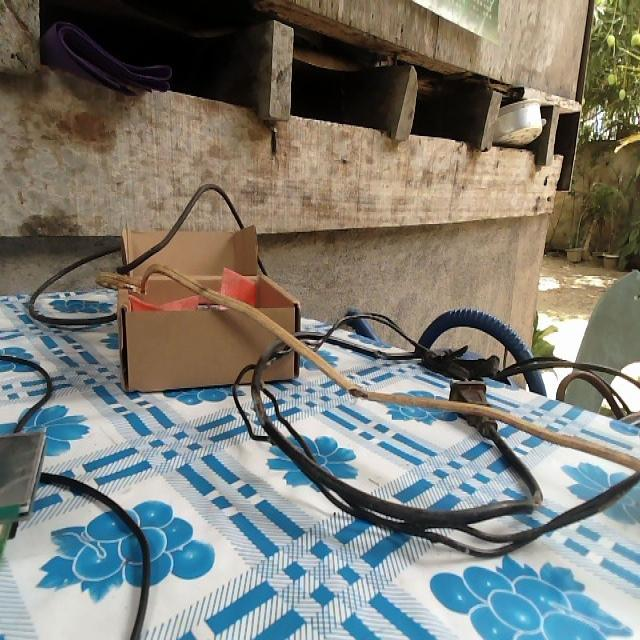-: (346, 383, 366, 400)
